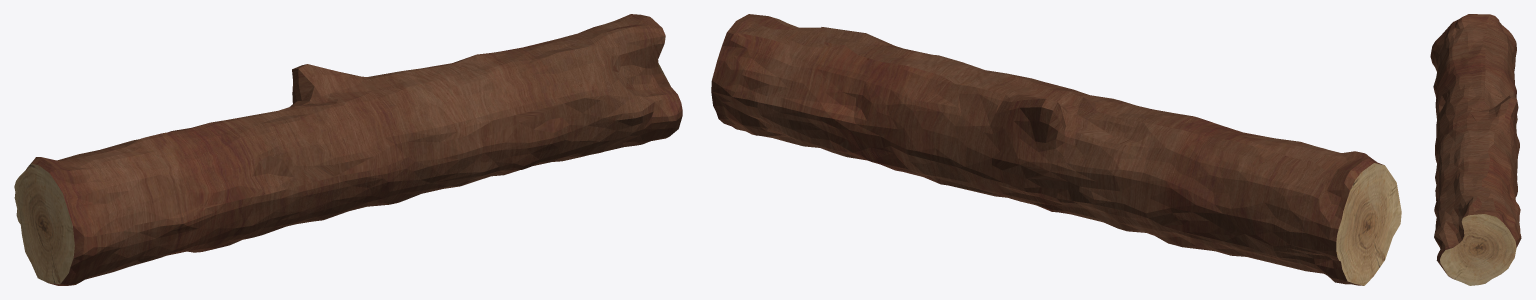
File: tex_log.fbx
The picture shows the model from 3 angles, left to right: view 1: azimuth 30°, elevation 25°; view 2: azimuth 150°, elevation 25°; view 3: azimuth 270°, elevation 25°; orthographic projection. The views are drawn at different scales.
Parts seen in each view (by area): view 1: log; view 2: log; view 3: log.
Part boxes in pixels (x1,y1,x2,y2): log: [14, 14, 682, 285]; log: [711, 14, 1401, 285]; log: [1430, 14, 1521, 285].
Bounding box in the file's own units: 603 × 125 × 116.
1 material, 1 textured.
